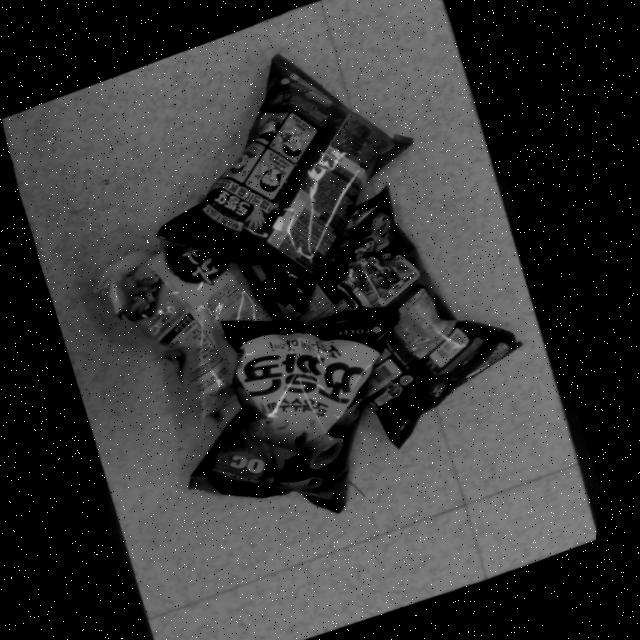bongji: (268, 184, 528, 446), (160, 52, 414, 311), (98, 207, 304, 423), (196, 307, 404, 511)
